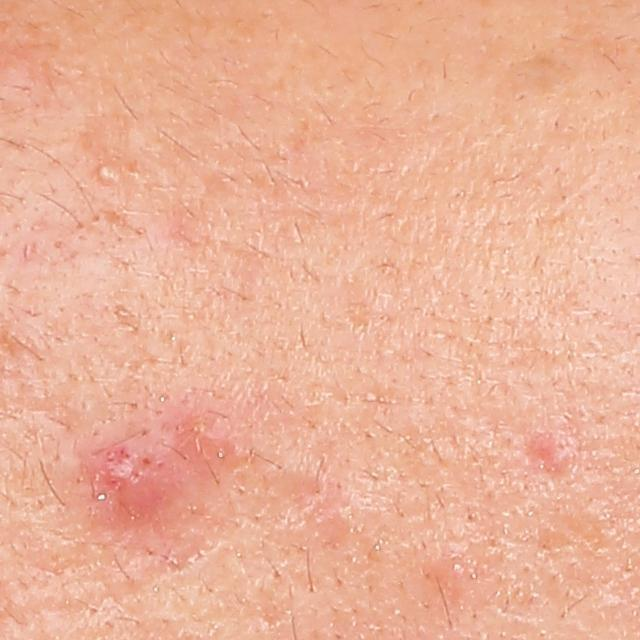comedo: (91, 162, 119, 187)
papule: (92, 433, 192, 514), (171, 409, 231, 464)
